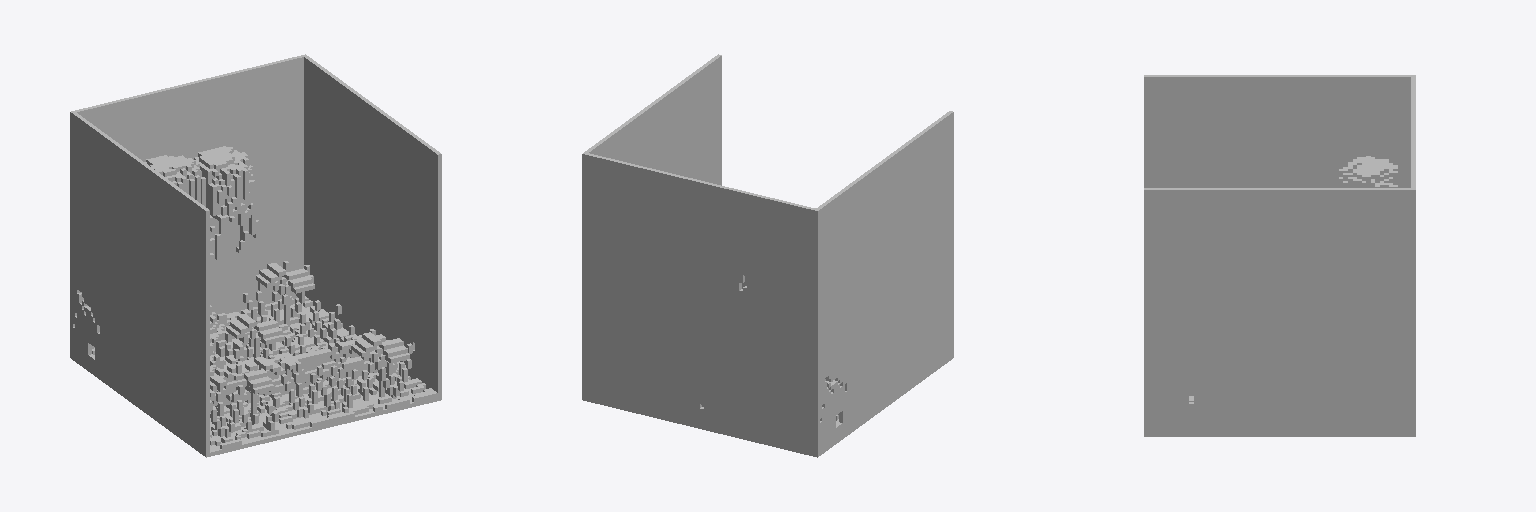
Rendered from THE E.N.obj.
3 views of the same model, side by side, from view 1: azimuth 30°, elevation 25°; view 2: azimuth 150°, elevation 25°; view 3: azimuth 270°, elevation 25° (orthographic).
Visible parts, largest first — view 1: object 1; view 2: object 1; view 3: object 1.
Part boxes in pixels (x1,y1,x2,y2): object 1: (70,54,441,457); object 1: (582,54,953,457); object 1: (1144,75,1415,436).
Size of the model in its own units: 6 by 6 by 6.